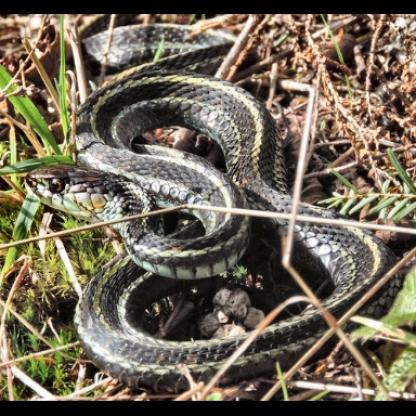Snake: (25, 24, 409, 390)
